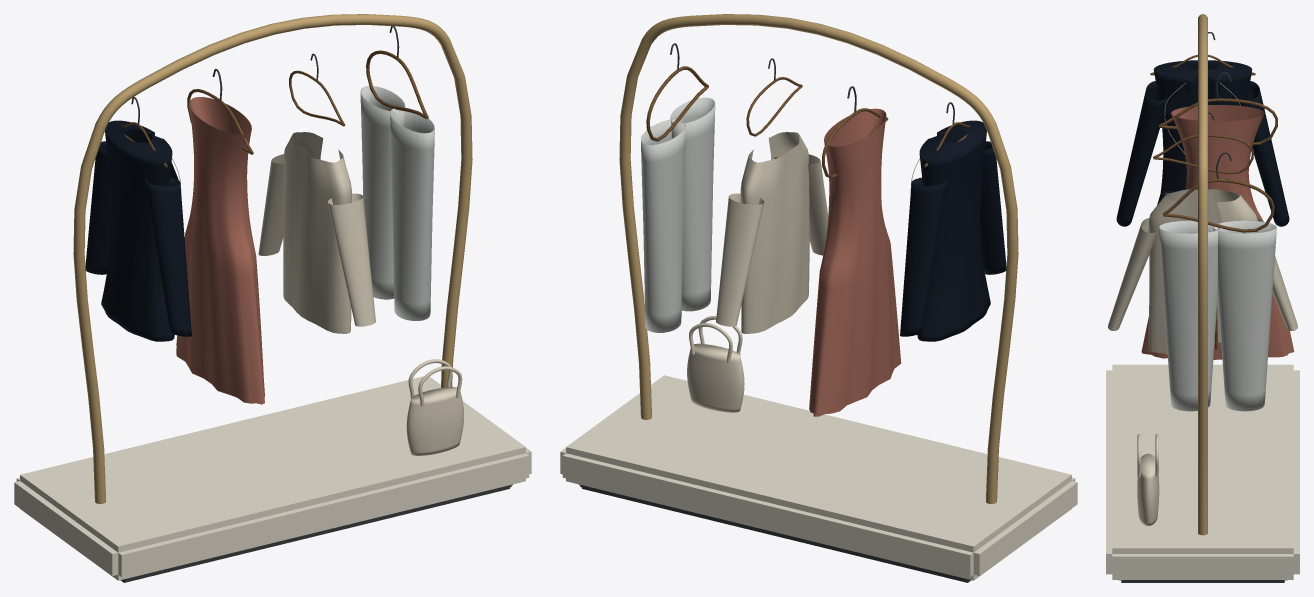
Rendered from collection_v29_apparel_1.glb.
3 renders of one model, left to right at view 1: azimuth 30°, elevation 25°; view 2: azimuth 150°, elevation 25°; view 3: azimuth 270°, elevation 25°, orthographic. The views are drawn at different scales.
Visible parts, largest first — view 1: collection_v29_apparel_1_V29_ivory_lacquer, collection_v29_apparel_1_Woven_3.001, collection_v29_apparel_1_Woven_navy_suiting, collection_v29_apparel_1_Woven_1.001, collection_v29_apparel_1_Woven_4.001, collection_v29_apparel_1_Satin_champagne, collection_v29_apparel_1_V23_natural_canvas, collection_v29_apparel_1_Anodised_graphite, collection_v29_apparel_1_CC0_Oak_veneer.004; view 2: collection_v29_apparel_1_V29_ivory_lacquer, collection_v29_apparel_1_Woven_3.001, collection_v29_apparel_1_Woven_navy_suiting, collection_v29_apparel_1_Woven_1.001, collection_v29_apparel_1_Woven_4.001, collection_v29_apparel_1_Satin_champagne, collection_v29_apparel_1_V23_natural_canvas, collection_v29_apparel_1_Anodised_graphite, collection_v29_apparel_1_CC0_Oak_veneer.004; view 3: collection_v29_apparel_1_V29_ivory_lacquer, collection_v29_apparel_1_Woven_4.001, collection_v29_apparel_1_Woven_navy_suiting, collection_v29_apparel_1_Woven_1.001, collection_v29_apparel_1_Woven_3.001, collection_v29_apparel_1_Satin_champagne, collection_v29_apparel_1_V23_natural_canvas, collection_v29_apparel_1_CC0_Oak_veneer.004, collection_v29_apparel_1_CC0_Oak_veneer.003, collection_v29_apparel_1_CC0_Oak_veneer.002, collection_v29_apparel_1_Anodised_graphite.
Boxes of the visible parts, bbox=[...] form: collection_v29_apparel_1_V29_ivory_lacquer: bbox=[14, 376, 531, 580]; collection_v29_apparel_1_Woven_3.001: bbox=[176, 97, 264, 404]; collection_v29_apparel_1_Woven_navy_suiting: bbox=[85, 120, 191, 341]; collection_v29_apparel_1_Woven_1.001: bbox=[258, 132, 375, 333]; collection_v29_apparel_1_Woven_4.001: bbox=[360, 86, 434, 320]; collection_v29_apparel_1_Satin_champagne: bbox=[73, 14, 472, 503]; collection_v29_apparel_1_V23_natural_canvas: bbox=[406, 359, 463, 455]; collection_v29_apparel_1_Anodised_graphite: bbox=[120, 484, 512, 582]; collection_v29_apparel_1_CC0_Oak_veneer.004: bbox=[366, 50, 428, 119]; collection_v29_apparel_1_V29_ivory_lacquer: bbox=[560, 375, 1077, 580]; collection_v29_apparel_1_Woven_3.001: bbox=[809, 108, 901, 416]; collection_v29_apparel_1_Woven_navy_suiting: bbox=[900, 120, 1006, 341]; collection_v29_apparel_1_Woven_1.001: bbox=[716, 132, 828, 333]; collection_v29_apparel_1_Woven_4.001: bbox=[641, 97, 715, 332]; collection_v29_apparel_1_Satin_champagne: bbox=[619, 14, 1018, 503]; collection_v29_apparel_1_V23_natural_canvas: bbox=[687, 316, 744, 412]; collection_v29_apparel_1_Anodised_graphite: bbox=[579, 484, 971, 582]; collection_v29_apparel_1_CC0_Oak_veneer.004: bbox=[646, 66, 708, 141]; collection_v29_apparel_1_V29_ivory_lacquer: bbox=[1106, 364, 1299, 579]; collection_v29_apparel_1_Woven_4.001: bbox=[1159, 220, 1276, 411]; collection_v29_apparel_1_Woven_navy_suiting: bbox=[1116, 60, 1289, 226]; collection_v29_apparel_1_Woven_1.001: bbox=[1108, 189, 1297, 354]; collection_v29_apparel_1_Woven_3.001: bbox=[1141, 105, 1294, 359]; collection_v29_apparel_1_Satin_champagne: bbox=[1198, 14, 1207, 535]; collection_v29_apparel_1_V23_natural_canvas: bbox=[1137, 434, 1159, 525]; collection_v29_apparel_1_CC0_Oak_veneer.004: bbox=[1162, 178, 1274, 232]; collection_v29_apparel_1_CC0_Oak_veneer.003: bbox=[1153, 134, 1253, 349]; collection_v29_apparel_1_CC0_Oak_veneer.002: bbox=[1158, 98, 1277, 145]; collection_v29_apparel_1_Anodised_graphite: bbox=[1118, 580, 1287, 582].
Bounding box in the file's own units: 1.8 × 1.97 × 0.78.
17 materials, 5 textured.
